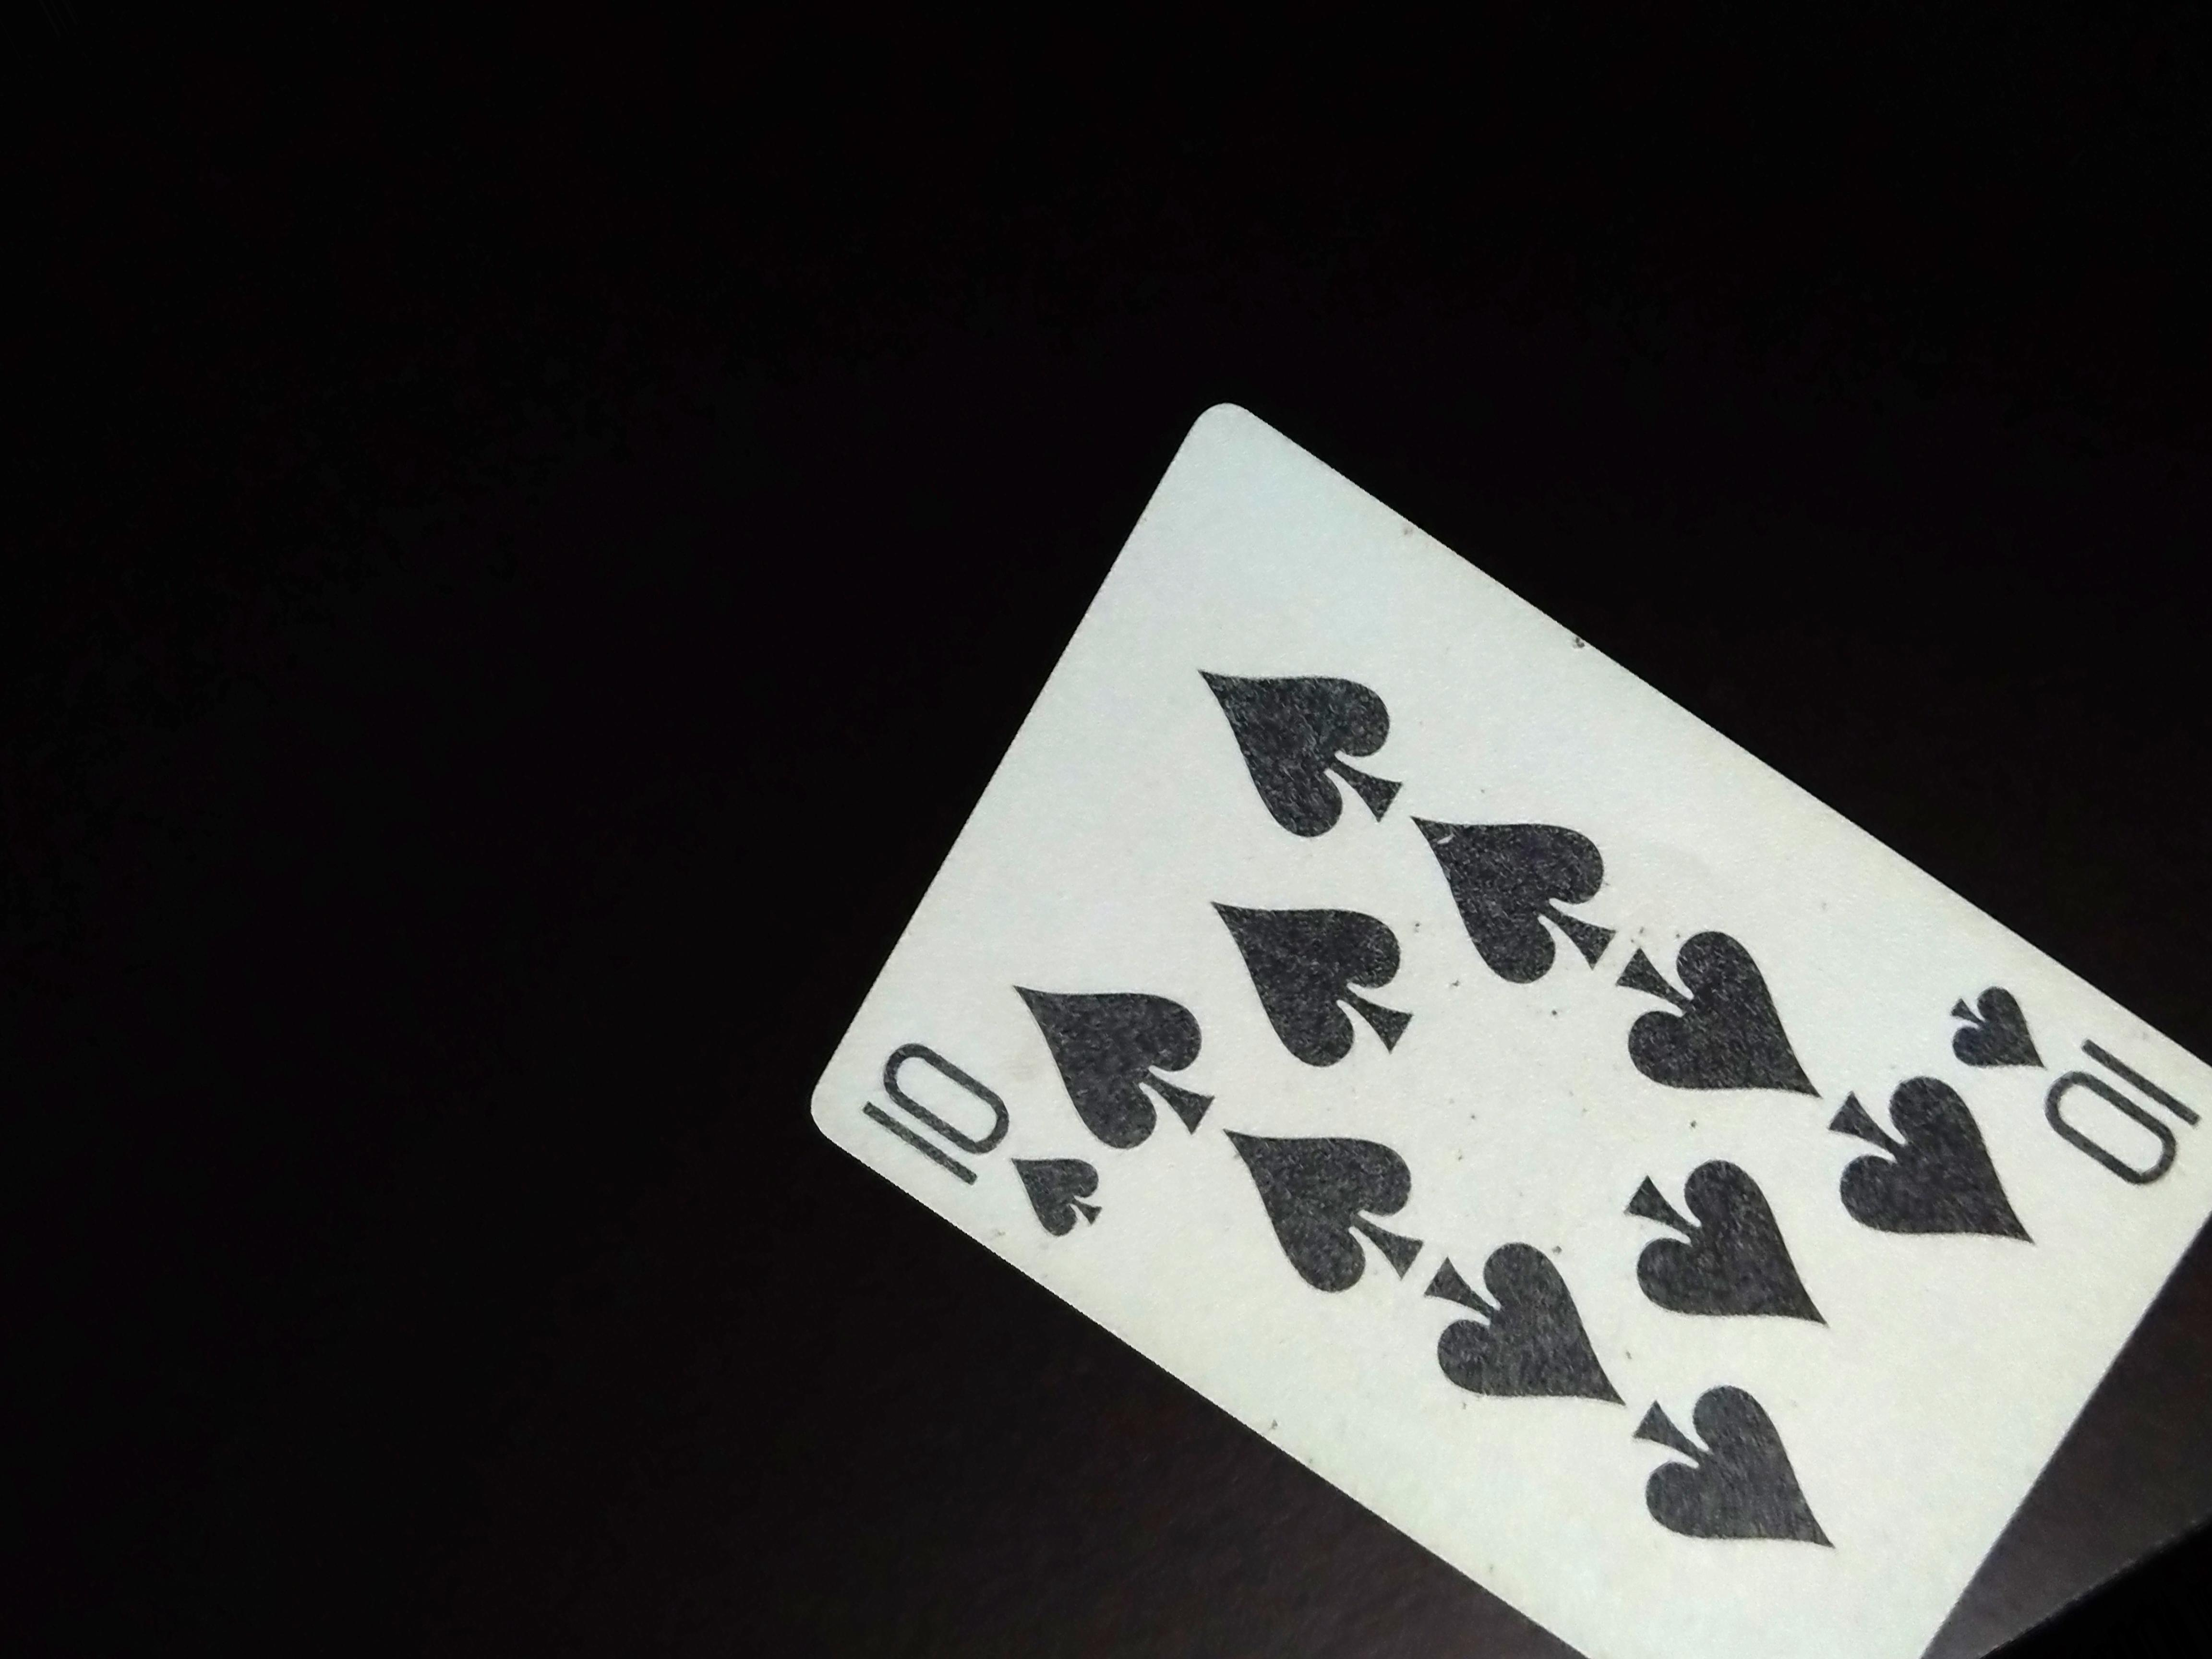10S: (845, 1025, 1122, 1237)
